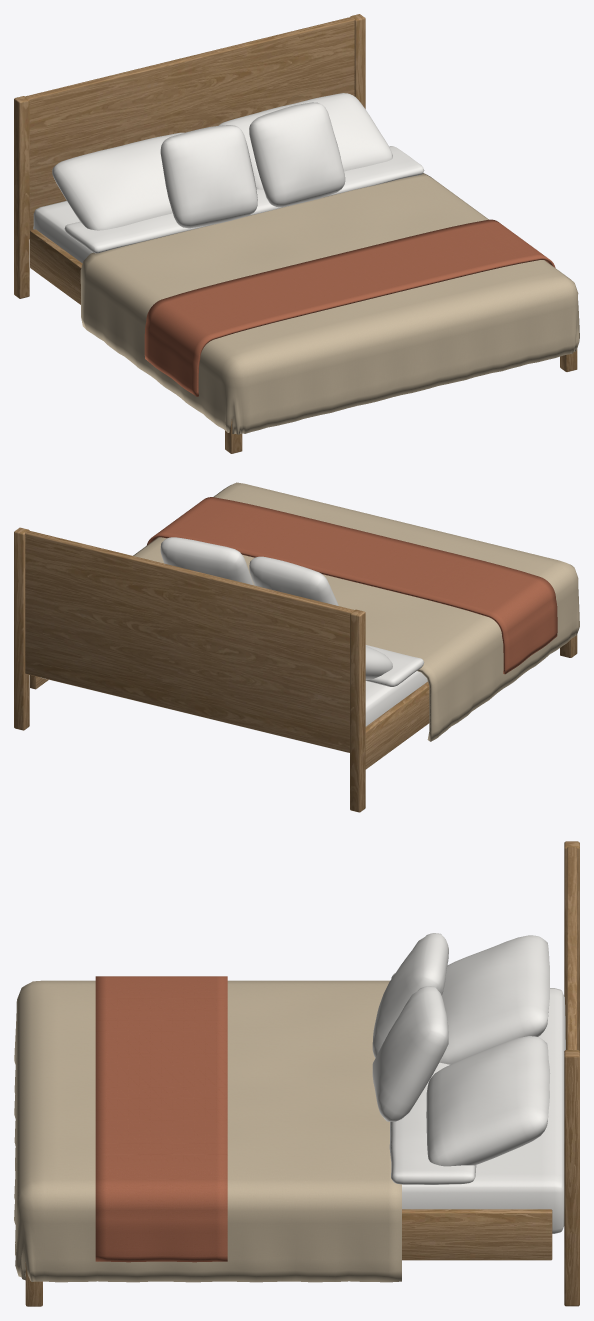
The model's file is cama_madera_180.glb.
The picture shows the model from 3 angles, top to bottom: view 1: azimuth 30°, elevation 25°; view 2: azimuth 150°, elevation 25°; view 3: azimuth 270°, elevation 25°; orthographic projection. The views are drawn at different scales.
Parts seen in each view (by area): view 1: cama_madera_180; view 2: cama_madera_180; view 3: cama_madera_180.
Part boxes in pixels (x1,y1,x2,y2): cama_madera_180: [14, 14, 579, 453]; cama_madera_180: [14, 482, 579, 812]; cama_madera_180: [14, 841, 579, 1306].
Bounding box in the file's own units: 2.02 × 1.05 × 2.14.
Materials: 4 (4 with a texture image).
